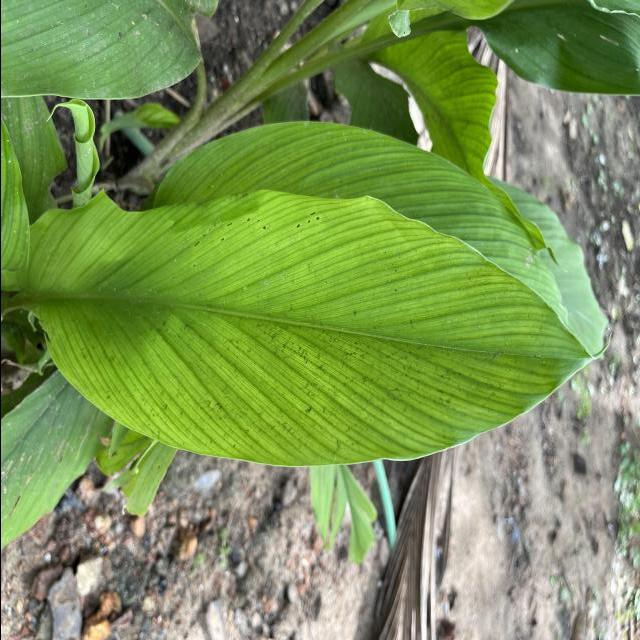Curcuma longa: (16, 184, 616, 471)
